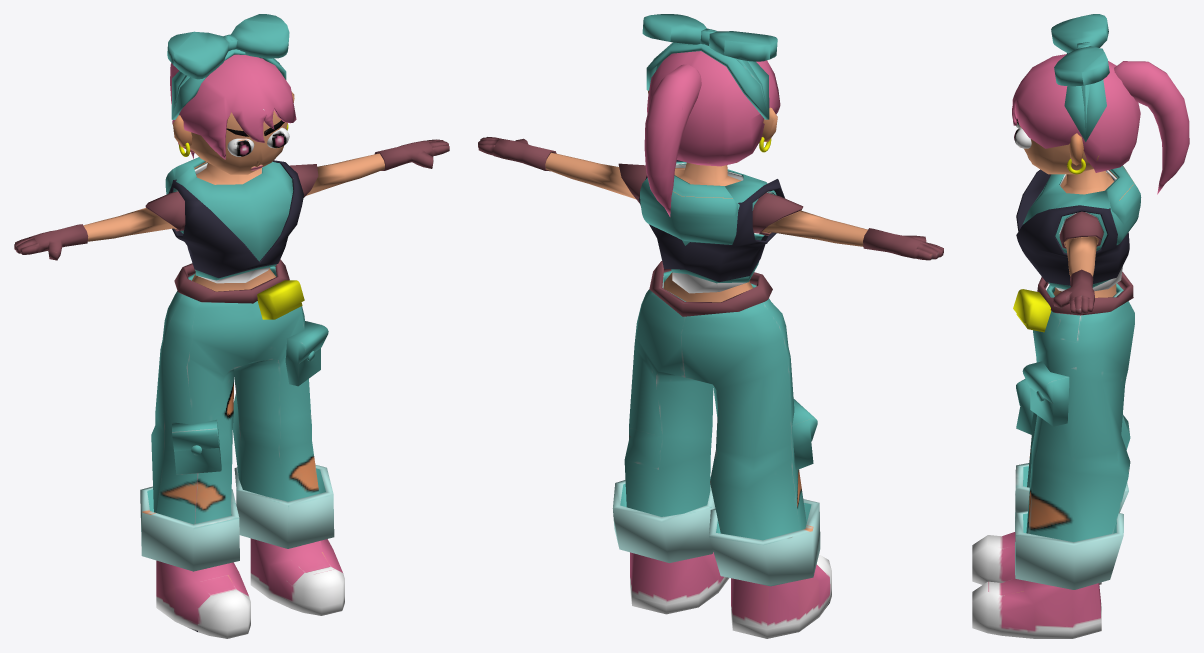
Rendered from Siti_Original.fbx.
3 renders of one model, left to right at view 1: azimuth 30°, elevation 25°; view 2: azimuth 150°, elevation 25°; view 3: azimuth 270°, elevation 25°, orthographic. The views are drawn at different scales.
Parts seen in each view (by area): view 1: Siti; view 2: Siti; view 3: Siti.
Part boxes in pixels (x1,y1,x2,y2): Siti: (14, 14, 449, 638); Siti: (478, 14, 943, 638); Siti: (972, 14, 1189, 638).
Size of the model in its own units: 219 by 269 by 94.41.
Materials: 1 (1 with a texture image).
